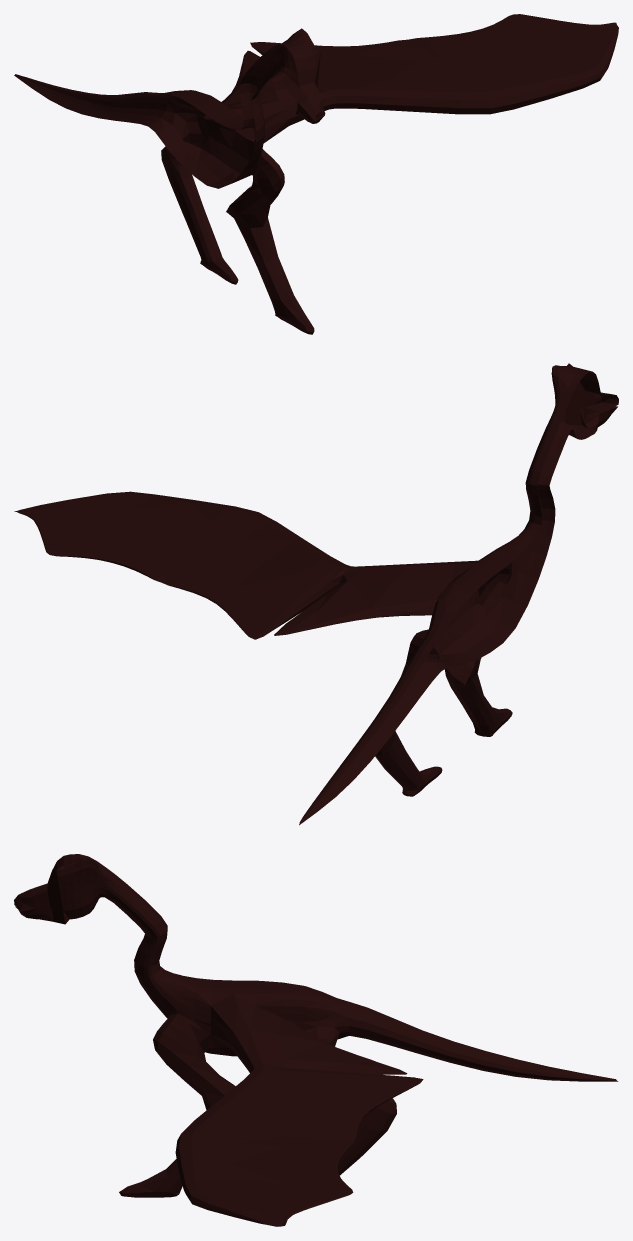
The model's file is Dragon_example.dae.
3 views of the same model, one above another, from view 1: azimuth 30°, elevation 25°; view 2: azimuth 150°, elevation 25°; view 3: azimuth 270°, elevation 25° (orthographic). The views are drawn at different scales.
Visible parts, largest first — view 1: Body; view 2: Body; view 3: Body.
Boxes of the visible parts, x1,y1,x2,y2 form: Body: (14, 14, 618, 334); Body: (14, 363, 618, 825); Body: (14, 854, 618, 1226).
Bounding box in the file's own units: 4.28 × 5.15 × 3.07.
